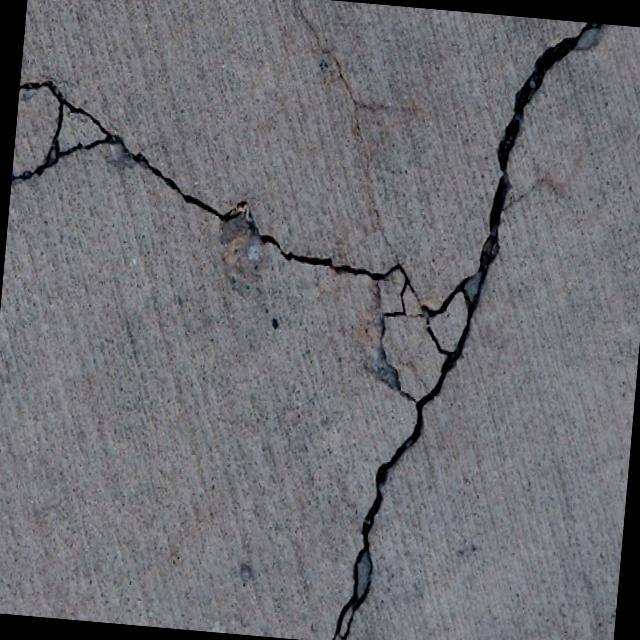crack: (329, 6, 606, 640), (0, 75, 436, 407)
